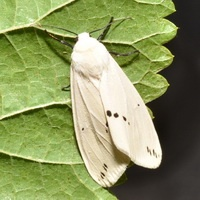insect: (70, 32, 161, 186)
